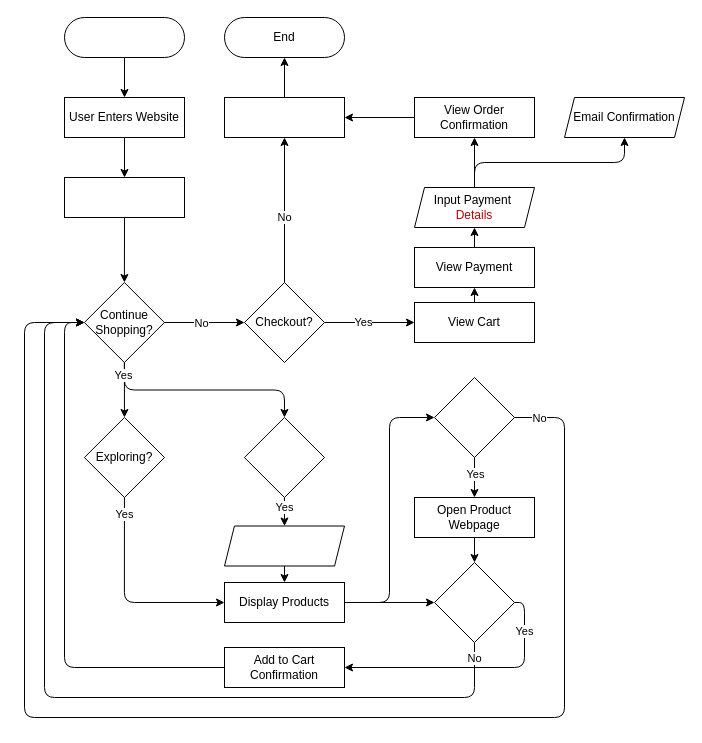
Image size: 702x743. Some labels were removed from this diagram. The shapes that lost their labels are listed below. From the top down, each one's centre as x and y in pixels, then its label:
At point 124,37: "Start".
At point 284,117: "User Leaves Website".
At point 124,197: "Display Homepage".
At point 474,417: "View a Product?".
At point 283,457: "Searching?".
At point 284,545: "Input Search".
At point 474,602: "Add to Cart?".
